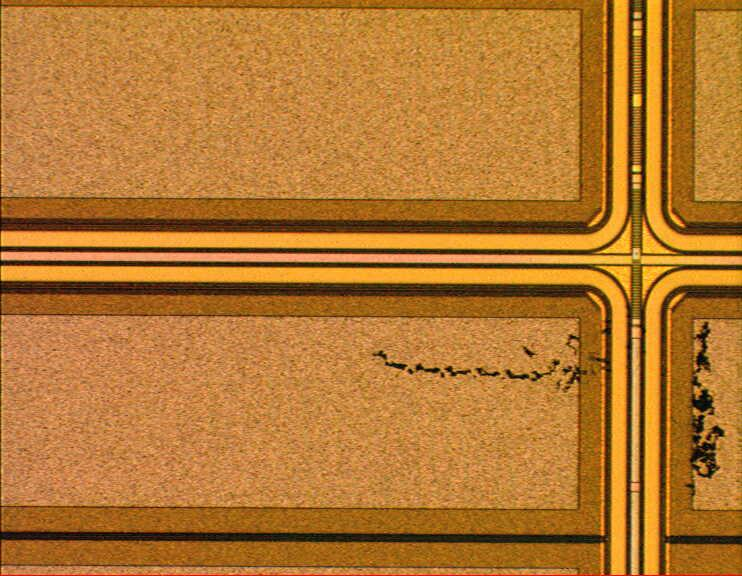SCRATCH: (357, 309, 731, 503)
